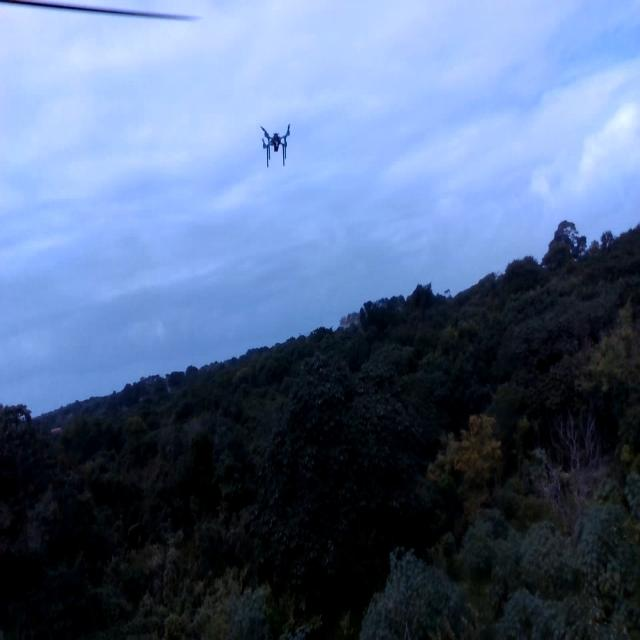-uav-: (252, 107, 301, 179)
